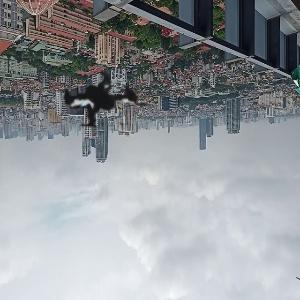drone: (3, 19, 216, 232)
